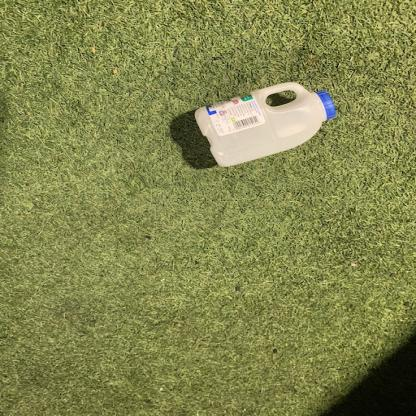trash: (192, 81, 336, 169)
